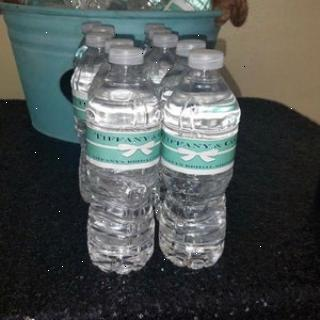Plastic-bottle: (158, 45, 246, 276), (84, 45, 160, 281)
